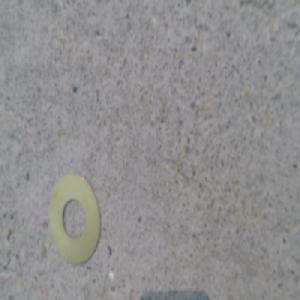Washer: (48, 174, 101, 265)
